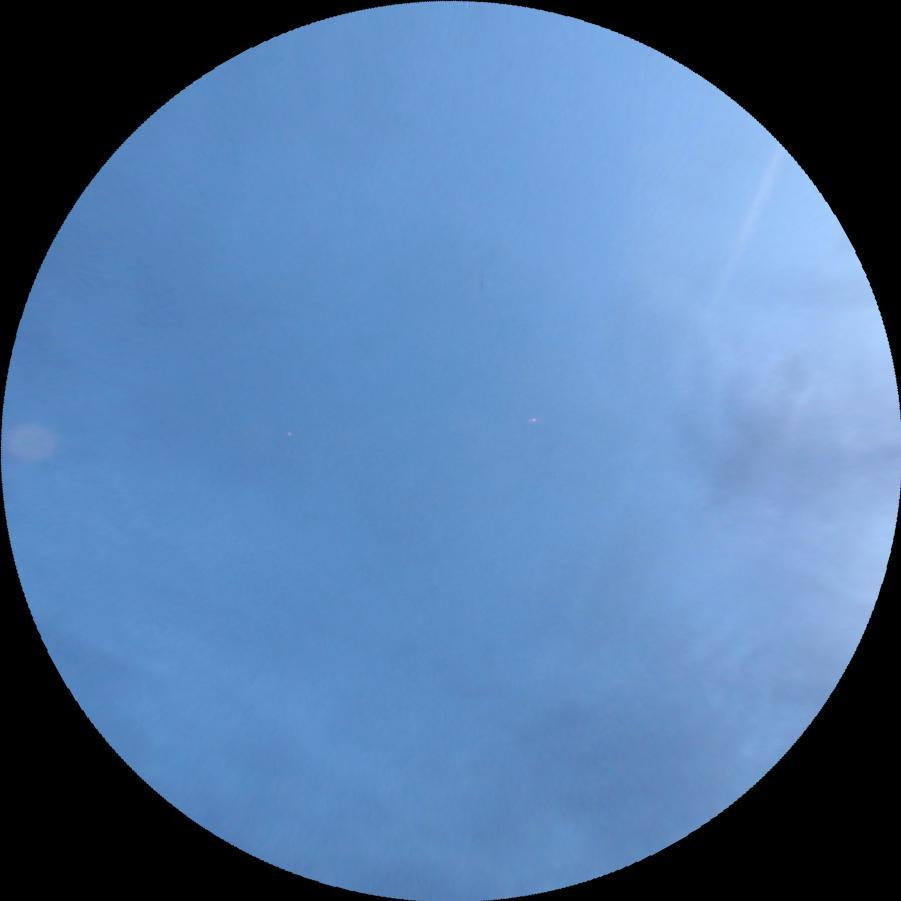contrail old: (549, 142, 792, 621)
